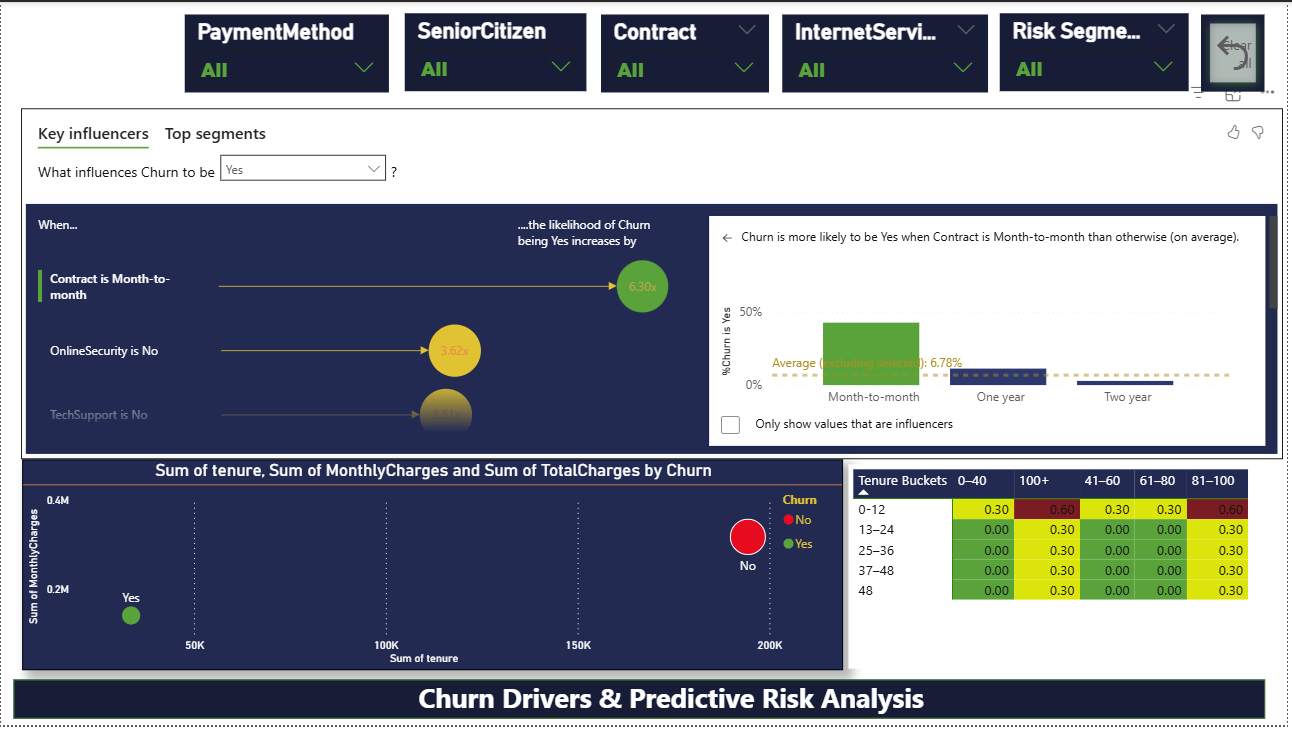

What the dashboard file says about the page in this screenshot:
{"tool":"powerbi","page":{"name":"Churn Drivers","canvas":[1280,720],"ordinal":3},"visuals":[{"type":"keyDriversVisual","fields":{"Target":["dim_customer.Churn"],"ExplainBy":["Sum(fact_billing.MonthlyCharges)","Sum(fact_billing.tenure)","dim_contract.Contract","dim_services.InternetService","dim_services.OnlineSecurity","dim_services.TechSupport","dim_contract.PaymentMethod"]},"box":[20.2,105.4,1255.8,349.3],"z":0},{"type":"shape","box":[13,674.5,1245.7,39],"z":0,"group":"g1"},{"type":"scatterChart","fields":{"Series":["dim_customer.Churn"],"Size":["Sum(fact_billing.TotalCharges)"],"X":["Sum(fact_billing.tenure)"],"Y":["Sum(fact_billing.MonthlyCharges)"]},"box":[21.7,454.7,817,209.3],"z":1000},{"type":"textbox","box":[411.4,669.1,565.8,49.1],"z":1000,"group":"g1"},{"type":"pivotTable","fields":{"Rows":["dim_customer.Tenure Buckets"],"Values":["Measure.Risk Score"],"Columns":["fact_billing.Charges Bucket"]},"box":[842.9,460.4,415.7,203.5],"z":2000},{"type":"slicer","fields":{"Values":["dim_customer.Risk Segment"]},"box":[994.5,11.5,187.6,77.9],"z":3000},{"type":"slicer","fields":{"Values":["dim_services.InternetService"]},"box":[778,13,205,77.9],"z":4000},{"type":"slicer","fields":{"Values":["dim_contract.Contract"]},"box":[597.6,13,167.4,77.9],"z":5000},{"type":"slicer","fields":{"Values":["dim_contract.PaymentMethod"]},"box":[183.3,13,203.5,77.9],"z":6000},{"type":"slicer","fields":{"Values":["dim_customer.SeniorCitizen"]},"box":[401.3,11.5,180.4,77.9],"z":7000},{"type":"actionButton","title":"Overview","box":[21.7,11.5,148.7,79.4],"z":8000},{"type":"actionButton","box":[1193.7,13,63.5,76.5],"z":9000},{"type":"group","id":"g1","title":"Group 1","box":[13,669.1,1245.7,49.1],"z":10000}]}

Visuals, with their boxes in screenshot pixels (x1, y1, x2, y2), scaled from the page's 1280x720 canvas onto the 1292x731 screenshot:
keyDriversVisual - dim_customer.Churn x Sum(fact_billing.MonthlyCharges): bbox=(20, 107, 1288, 462)
shape: bbox=(13, 685, 1271, 724)
scatterChart - dim_customer.Churn x Sum(fact_billing.TotalCharges): bbox=(22, 462, 847, 674)
textbox: bbox=(415, 679, 986, 729)
pivotTable - dim_customer.Tenure Buckets x Measure.Risk Score: bbox=(851, 467, 1270, 674)
slicer - dim_customer.Risk Segment: bbox=(1004, 12, 1193, 91)
slicer - dim_services.InternetService: bbox=(785, 13, 992, 92)
slicer - dim_contract.Contract: bbox=(603, 13, 772, 92)
slicer - dim_contract.PaymentMethod: bbox=(185, 13, 390, 92)
slicer - dim_customer.SeniorCitizen: bbox=(405, 12, 587, 91)
"Overview" actionButton: bbox=(22, 12, 172, 92)
actionButton: bbox=(1205, 13, 1269, 91)
"Group 1" group: bbox=(13, 679, 1271, 729)
